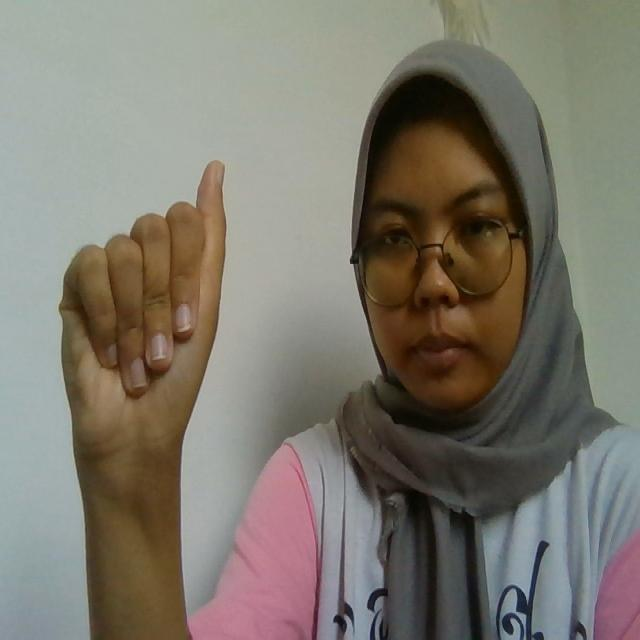A: (58, 159, 229, 439)
